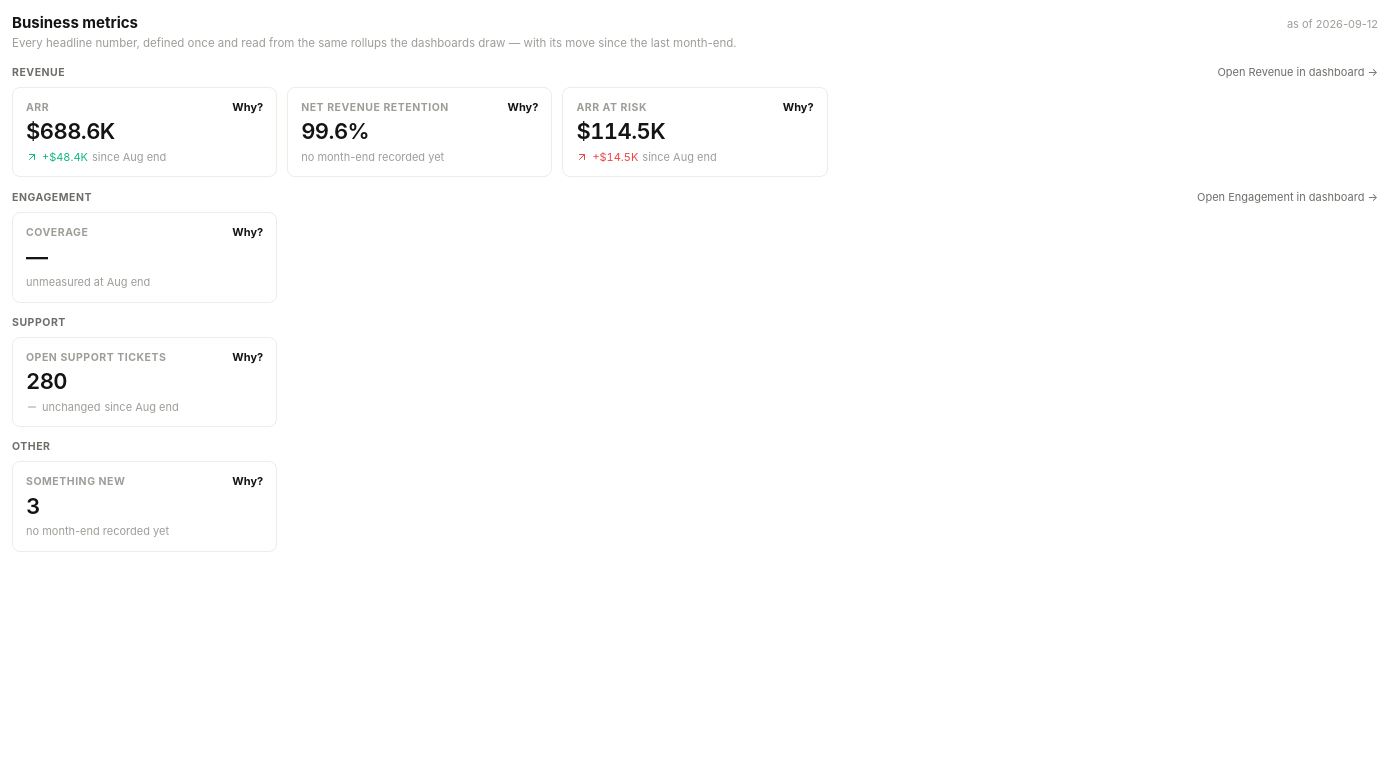
Test case: MetricLayerPanel › opens one explanation at a time, full width under the tile's group
Expected: the text "ARR" is shown, top-left (26, 100), bottom-right (49, 115)
Click the button with aria-label "Why ARR": (248, 107) top-left (232, 98), bottom-right (263, 115)
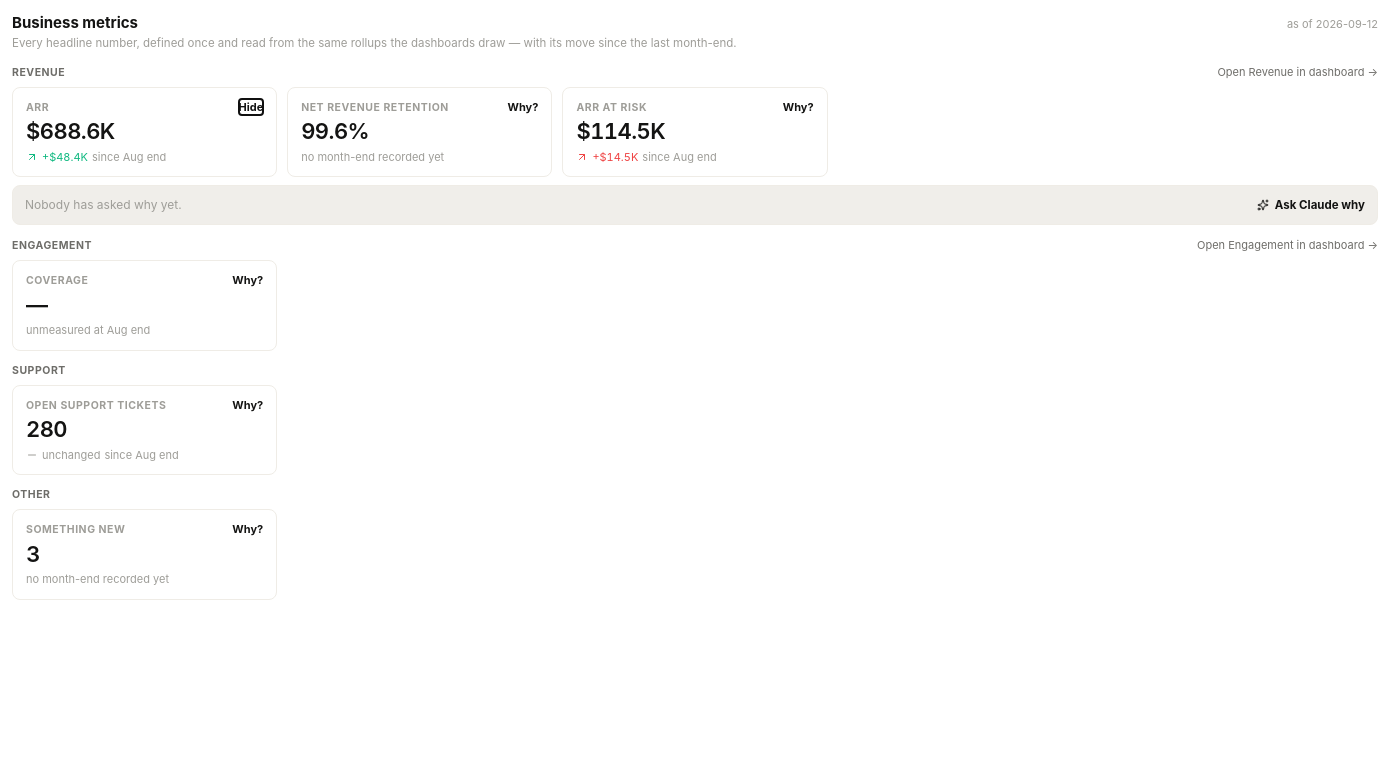
Expected: the text "Nobody has asked why yet." is shown, top-left (25, 196), bottom-right (182, 214)
Expected: the button "Ask Claude why" is shown, top-left (1257, 197), bottom-right (1365, 214)
Expected: the button with aria-label "Why ARR" is expanded, top-left (238, 98), bottom-right (263, 115)
Click the button with aria-label "Why Net revenue retention": (523, 107) top-left (508, 98), bottom-right (538, 115)
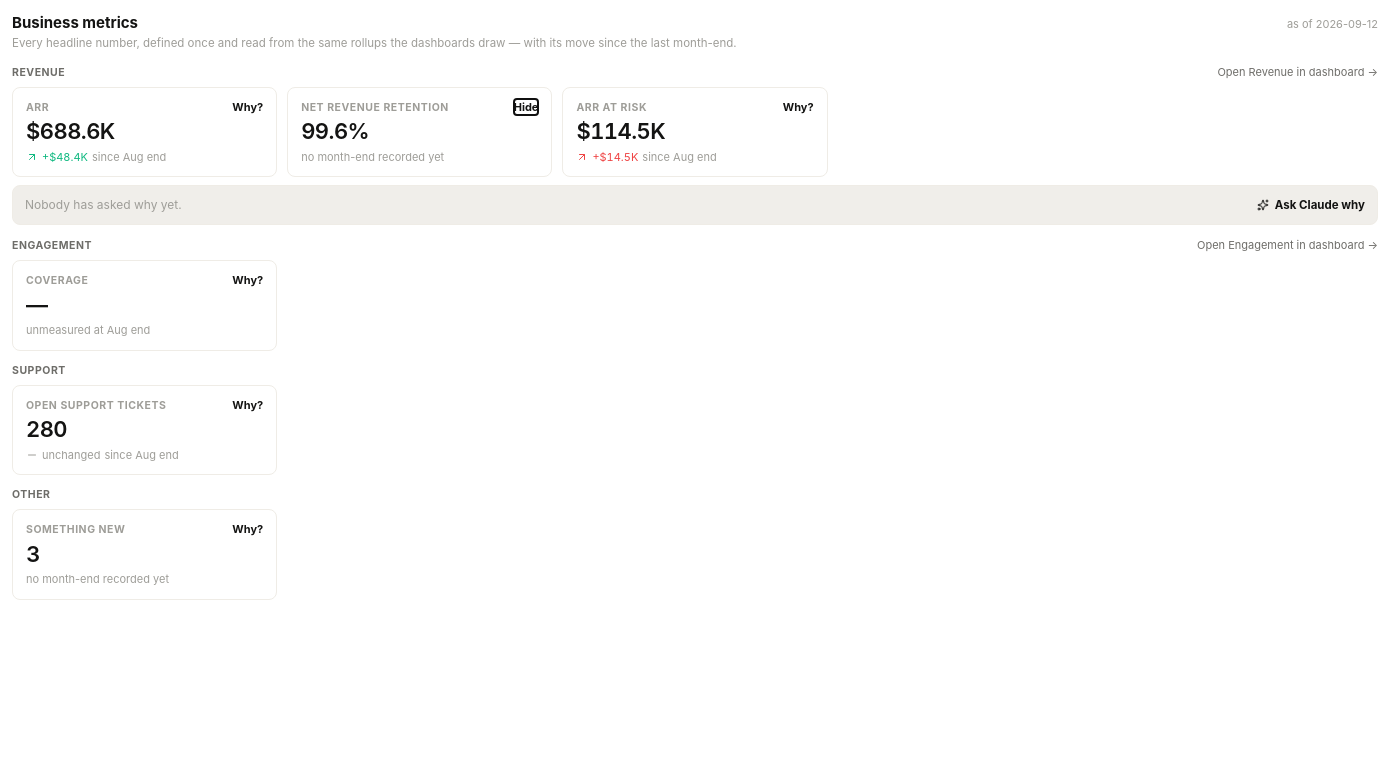
Expected: the text "Nobody has asked why yet." is shown once, top-left (25, 196), bottom-right (182, 214)
Expected: the button with aria-label "Why ARR" is collapsed, top-left (232, 98), bottom-right (263, 115)
